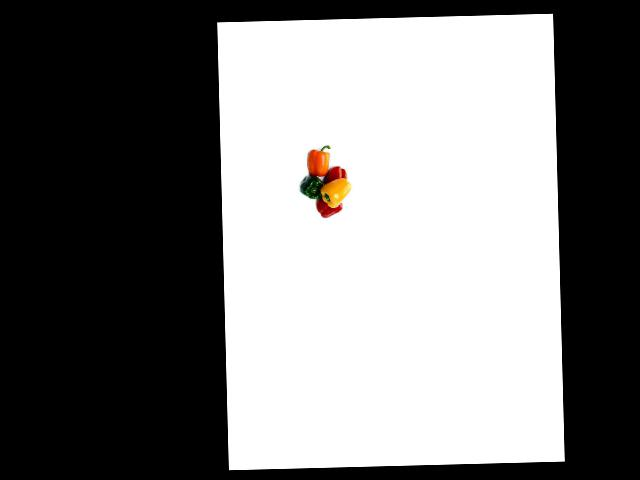bell_pepper: (295, 173, 330, 205)
